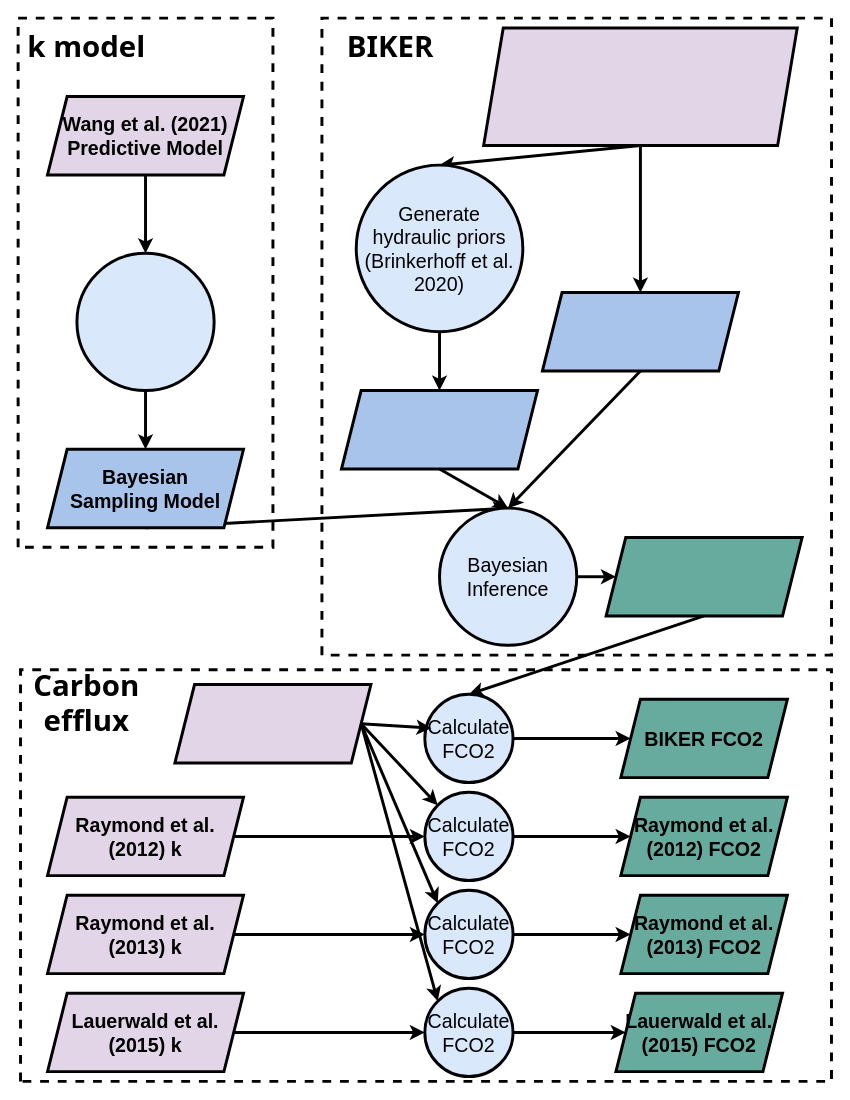
Some shapes in this 850 by 1100 pixel diagram are drawn without their labels. Each missing label, with the centre of its shape:
Bayesian Data: pixel 639 331
Bayesian priors: pixel 439 429
Beaulieu et al. (2012) CO2 data: pixel 272 723
McFLI logic: pixel 145 321
Probability distribution of k: pixel 703 576
SWOT data (river width, slope, change in channel area): pixel 640 86
